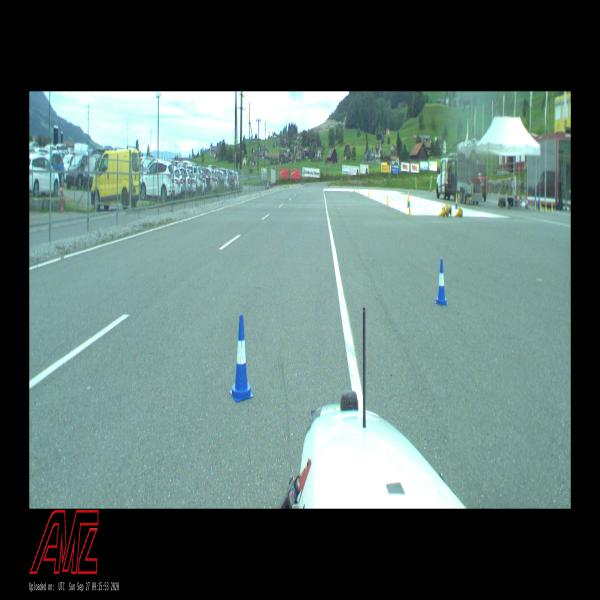blue_cone: (229, 314, 254, 402), (434, 260, 448, 306)
unknown_cone: (454, 207, 460, 218), (439, 206, 445, 216), (407, 190, 409, 208), (455, 193, 458, 204)
yellow_cone: (409, 201, 412, 215), (386, 195, 389, 206), (545, 201, 547, 212), (551, 202, 553, 212), (540, 201, 542, 211), (534, 200, 536, 210), (358, 186, 360, 194), (368, 190, 369, 198), (354, 186, 355, 193)
